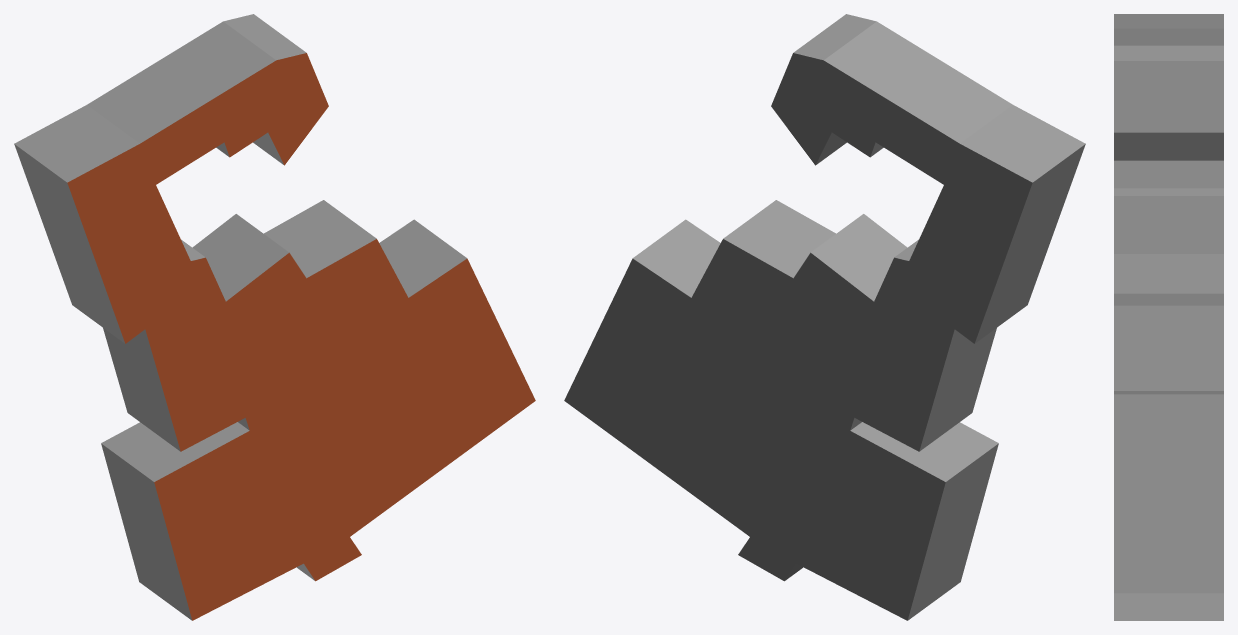
File: construction_6397_assumed_A_Casa_h6m.obj
The picture shows the model from 3 angles, left to right: view 1: azimuth 30°, elevation 25°; view 2: azimuth 150°, elevation 25°; view 3: azimuth 270°, elevation 25°; orthographic projection. The views are drawn at different scales.
Parts seen in each view (by area): view 1: construction_6397_assumed_A_Casa; view 2: construction_6397_assumed_A_Casa; view 3: construction_6397_assumed_A_Casa.
Boxes of the visible parts, <box> form: construction_6397_assumed_A_Casa: <box>14,14,535,620</box>; construction_6397_assumed_A_Casa: <box>564,14,1085,620</box>; construction_6397_assumed_A_Casa: <box>1114,14,1223,620</box>.
Bounding box in the file's own units: 30.52 × 33.62 × 6.
